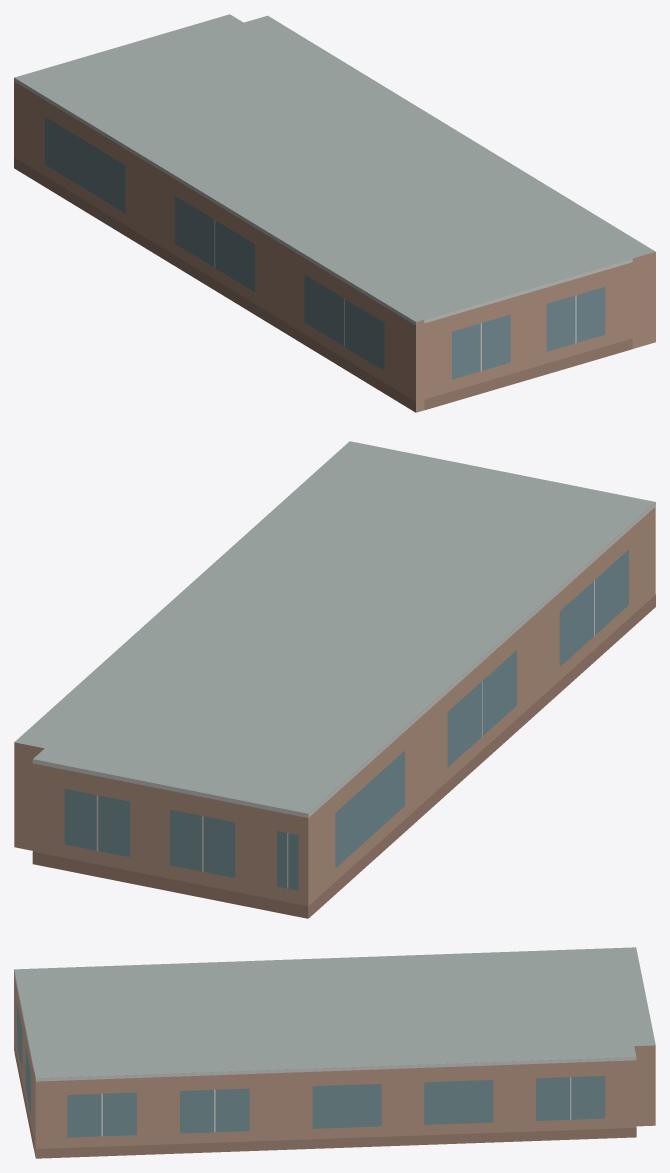
Rendered from survey-upis-32613124.glb.
3 renders of one model, top to bottom at view 1: azimuth 30°, elevation 25°; view 2: azimuth 150°, elevation 25°; view 3: azimuth 270°, elevation 25°, orthographic. The views are drawn at different scales.
Parts seen in each view (by area): view 1: survey-upis-32613124.tmp; view 2: survey-upis-32613124.tmp; view 3: survey-upis-32613124.tmp.
Part boxes in pixels (x1,y1,x2,y2): survey-upis-32613124.tmp: (14,14,655,412); survey-upis-32613124.tmp: (14,441,655,918); survey-upis-32613124.tmp: (14,947,655,1158).
Bounding box in the file's own units: 10.68 × 3.05 × 22.1.
